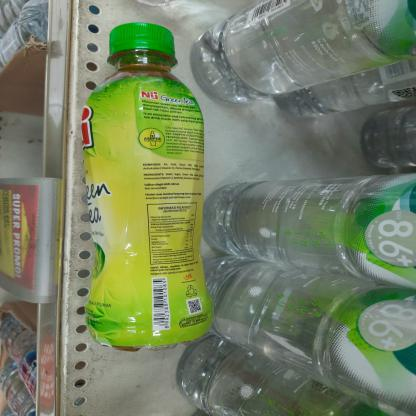bottle: (75, 19, 222, 349)
